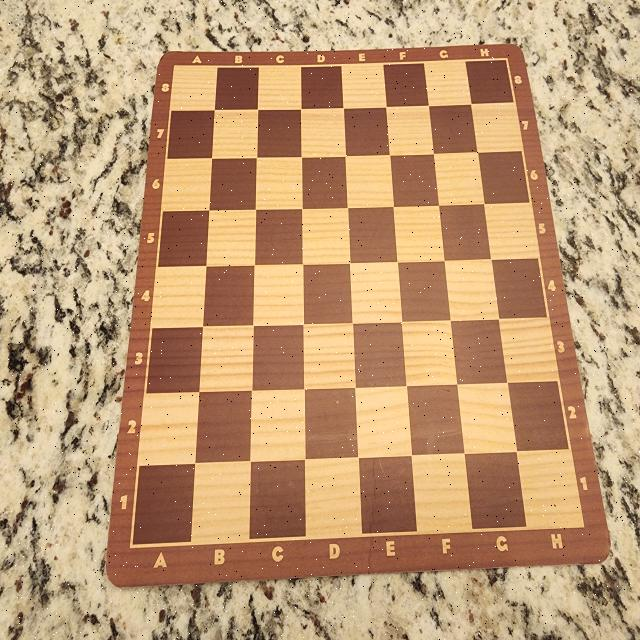Bottom-Left: (132, 463, 193, 550)
Bottom-Right: (517, 452, 582, 528)
Top-Left: (174, 66, 215, 112)
Top-Right: (472, 58, 507, 104)
